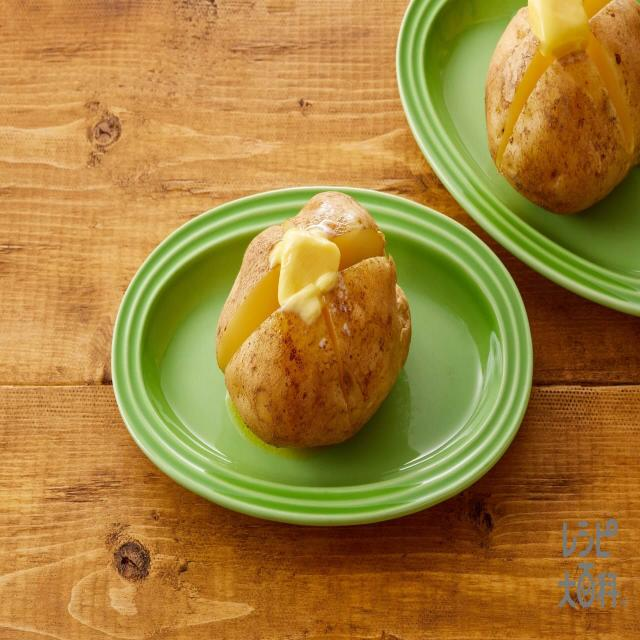papa: (215, 193, 417, 458)
